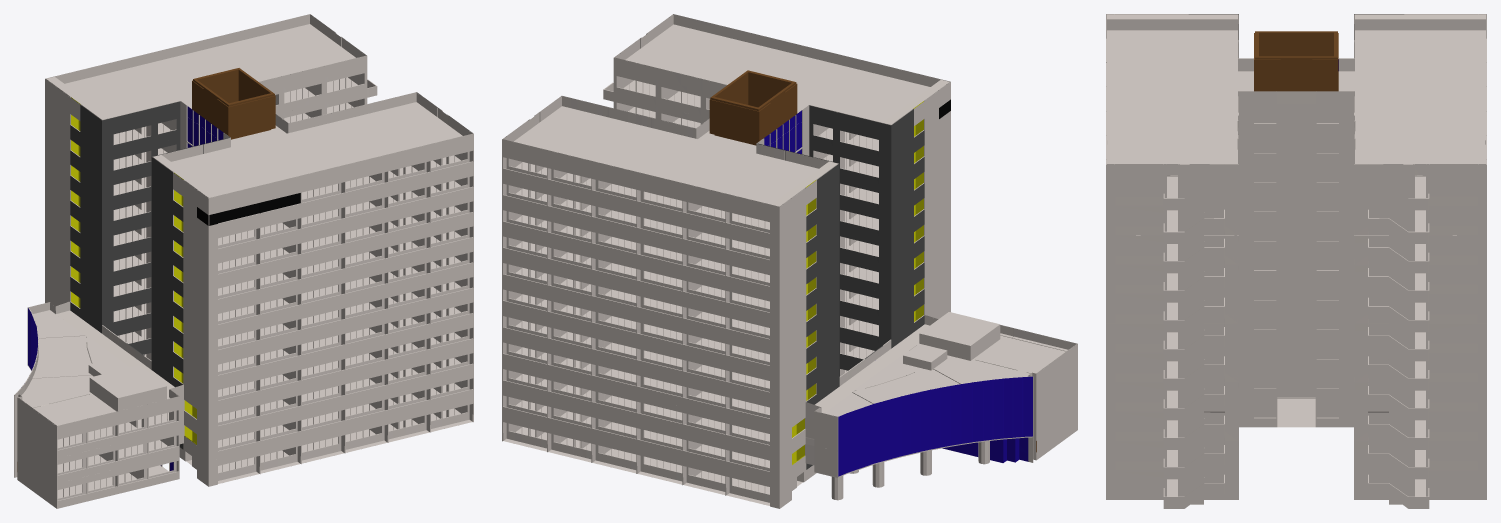
Rendered from nitech2.1.3.fbx.
The picture shows the model from 3 angles, left to right: view 1: azimuth 30°, elevation 25°; view 2: azimuth 150°, elevation 25°; view 3: azimuth 270°, elevation 25°; orthographic projection. The views are drawn at different scales.
Parts seen in each view (by area): view 1: Plane; view 2: Plane; view 3: Plane.
Boxes of the visible parts, <box> form: Plane: <box>14,14,473,508</box>; Plane: <box>502,14,1077,508</box>; Plane: <box>1106,14,1486,508</box>.
Bounding box in the file's own units: 1703 × 1226 × 1156.
